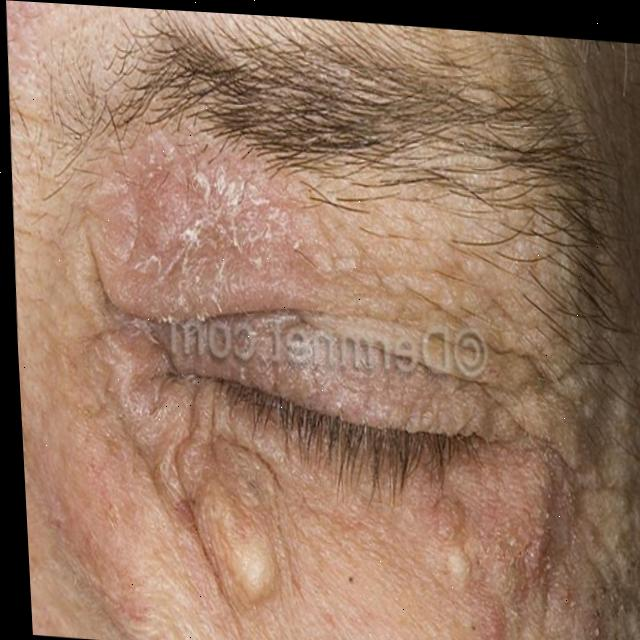Eczema: (145, 170, 306, 282), (435, 506, 562, 611), (178, 462, 273, 545)
